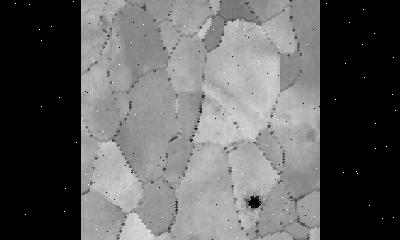good_void: (234, 189, 267, 216), (230, 120, 240, 131)
